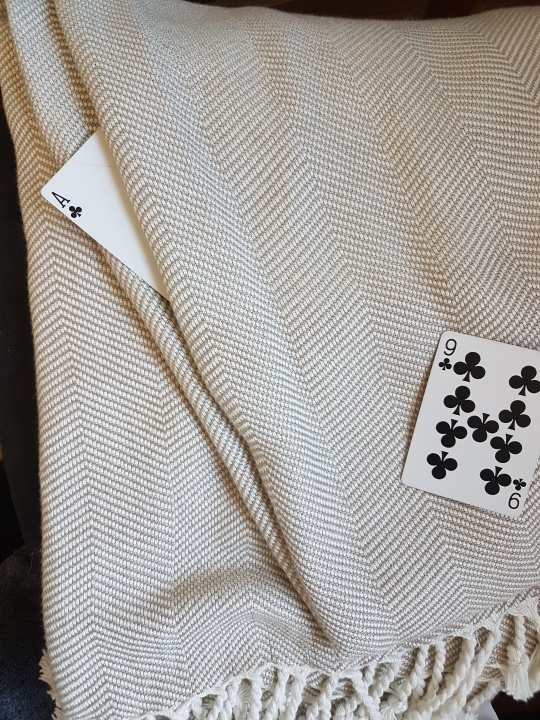9: (395, 326, 540, 520)
ace: (28, 110, 206, 308)
